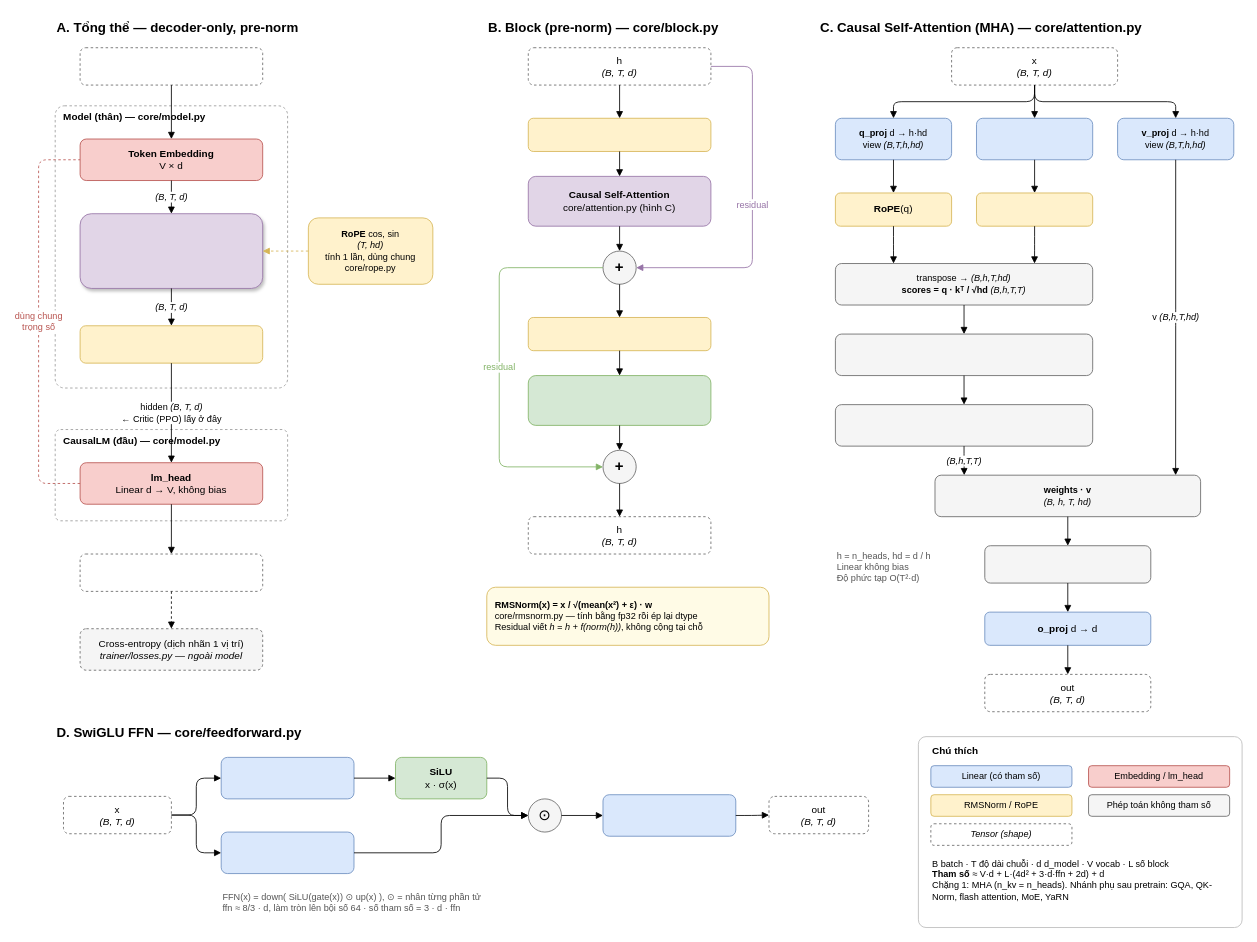
Image size: 1257x942. Some labels were removed from this diagram. Each missing label, with the centre of its shape:
"+ causal mask −∞ phía trên đường chéo (vị trí j > i)" goes at (x=964, y=354).
"Block × L core/block.py (chi tiết: hình B)" goes at (x=172, y=252).
"down_proj ffn → d" goes at (x=669, y=815).
"gate_proj d → ffn" goes at (x=287, y=778).
"input_ids (B, T)" goes at (x=171, y=66).
"k_proj d → h·hd view (B,T,h,hd)" goes at (x=1034, y=138).
"logits (B, T, V)" goes at (x=171, y=572).
"RMSNorm 1" goes at (x=619, y=134).
"RMSNorm 2" goes at (x=619, y=334).
"RMSNorm cuối" goes at (x=171, y=344).
"RoPE (k)" goes at (x=1034, y=209).
"softmax (dim = −1) — tính bằng fp32 mỗi hàng cộng lại = 1" goes at (x=964, y=425).
"SwiGLU FFN core/feedforward.py (hình D)" goes at (x=619, y=400).
"transpose + reshape (B, T, d)" goes at (x=1067, y=564).
"up_proj d → ffn" goes at (x=287, y=852).
